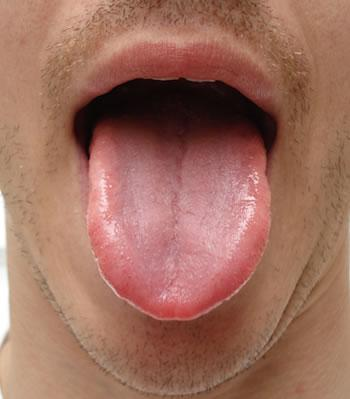baitaishe: (87, 119, 271, 321)
